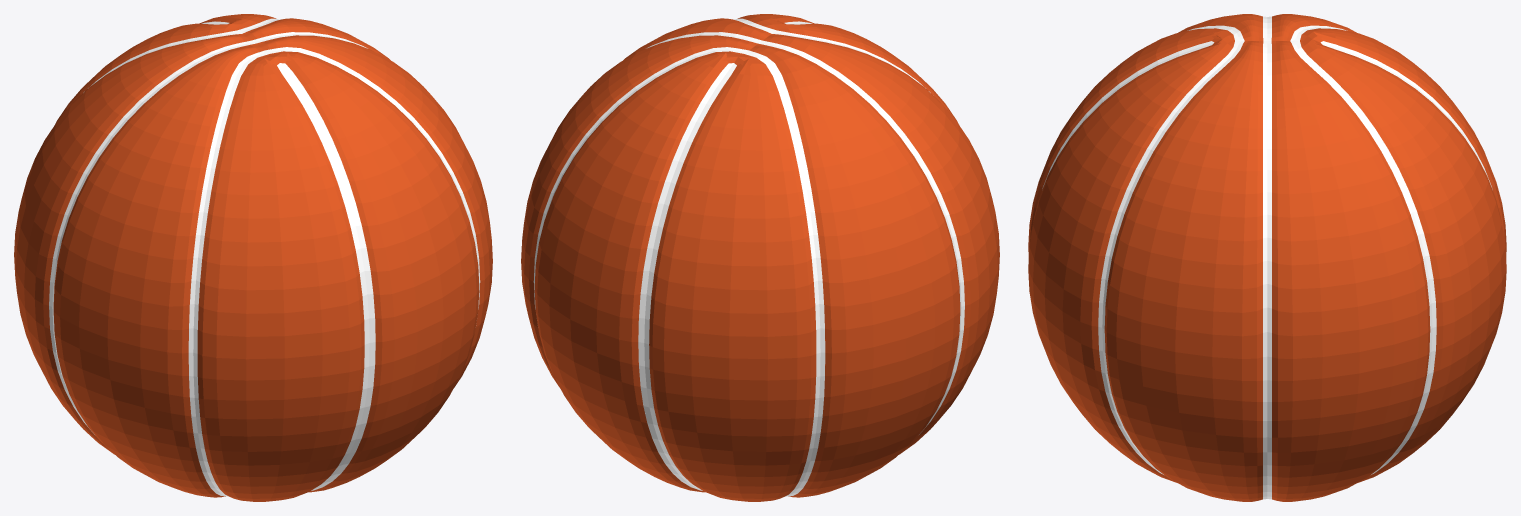
The model's file is p_basket-v1.glb.
3 renders of one model, left to right at view 1: azimuth 30°, elevation 25°; view 2: azimuth 150°, elevation 25°; view 3: azimuth 270°, elevation 25°, orthographic.
Parts seen in each view (by area): view 1: Sphere; view 2: Sphere; view 3: Sphere.
Part boxes in pixels (x1,y1,x2,y2): Sphere: [14, 14, 492, 501]; Sphere: [521, 14, 999, 501]; Sphere: [1028, 14, 1506, 501].
Size of the model in its own units: 1.93 by 1.96 by 1.93.
